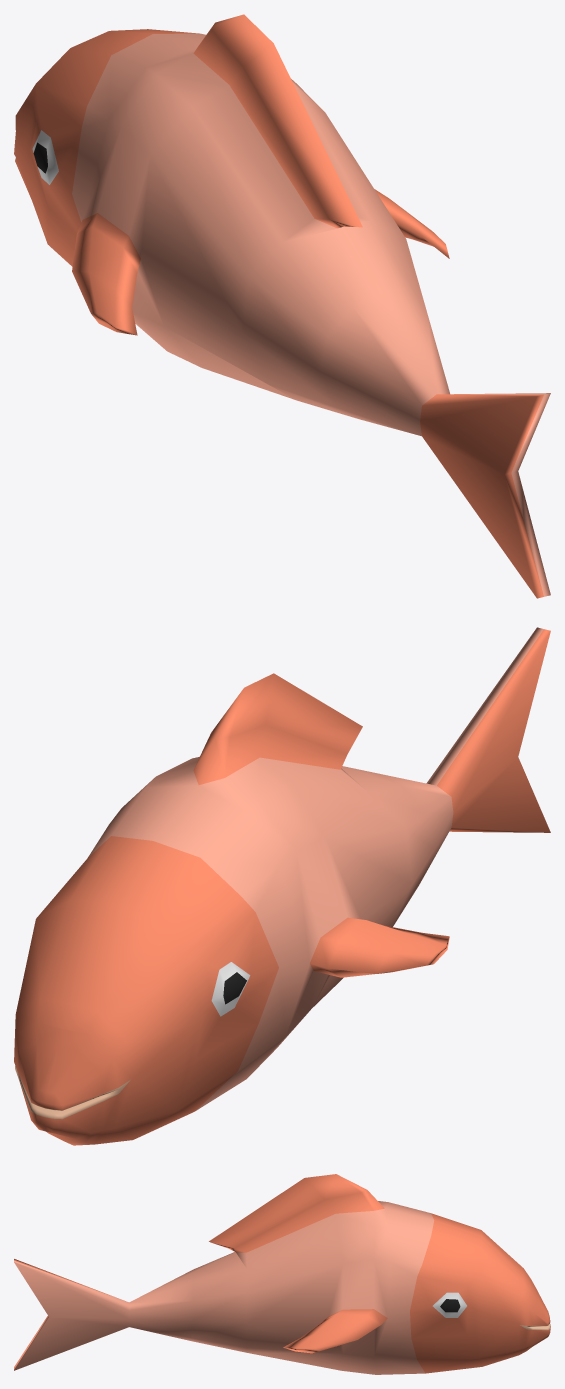
Rendered from fish.fbx.
3 views of the same model, one above another, from view 1: azimuth 30°, elevation 25°; view 2: azimuth 150°, elevation 25°; view 3: azimuth 270°, elevation 25° (orthographic). The views are drawn at different scales.
Parts seen in each view (by area): view 1: fish; view 2: fish; view 3: fish.
Boxes of the visible parts, x1,y1,x2,y2 form: fish: [14, 14, 550, 598]; fish: [14, 627, 550, 1145]; fish: [14, 1174, 550, 1374].
Bounding box in the file's own units: 94.74 × 97.95 × 244.
